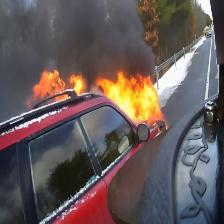fire: (99, 72, 169, 132), (31, 63, 90, 105)
